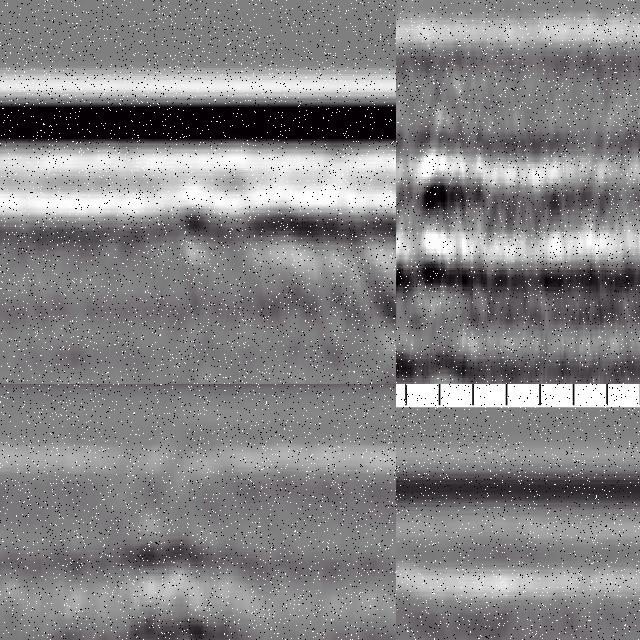loose: (53, 533, 266, 640), (397, 131, 495, 298)
